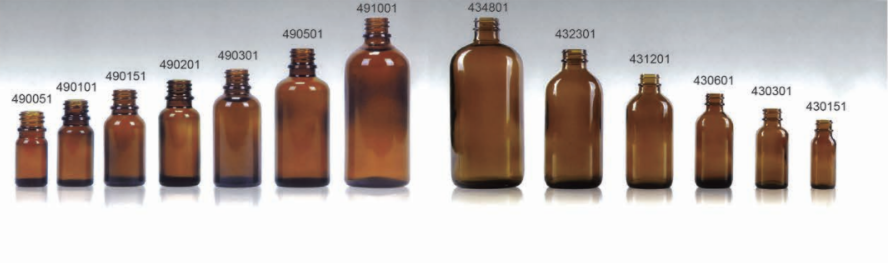glass_bottleww: (440, 16, 544, 214), (338, 6, 421, 240), (611, 13, 687, 233), (536, 4, 607, 220), (269, 19, 339, 230), (200, 35, 268, 244), (686, 24, 749, 239), (798, 72, 860, 239), (151, 40, 207, 224), (103, 51, 152, 236), (50, 68, 103, 224), (747, 55, 797, 220), (6, 68, 47, 211)
